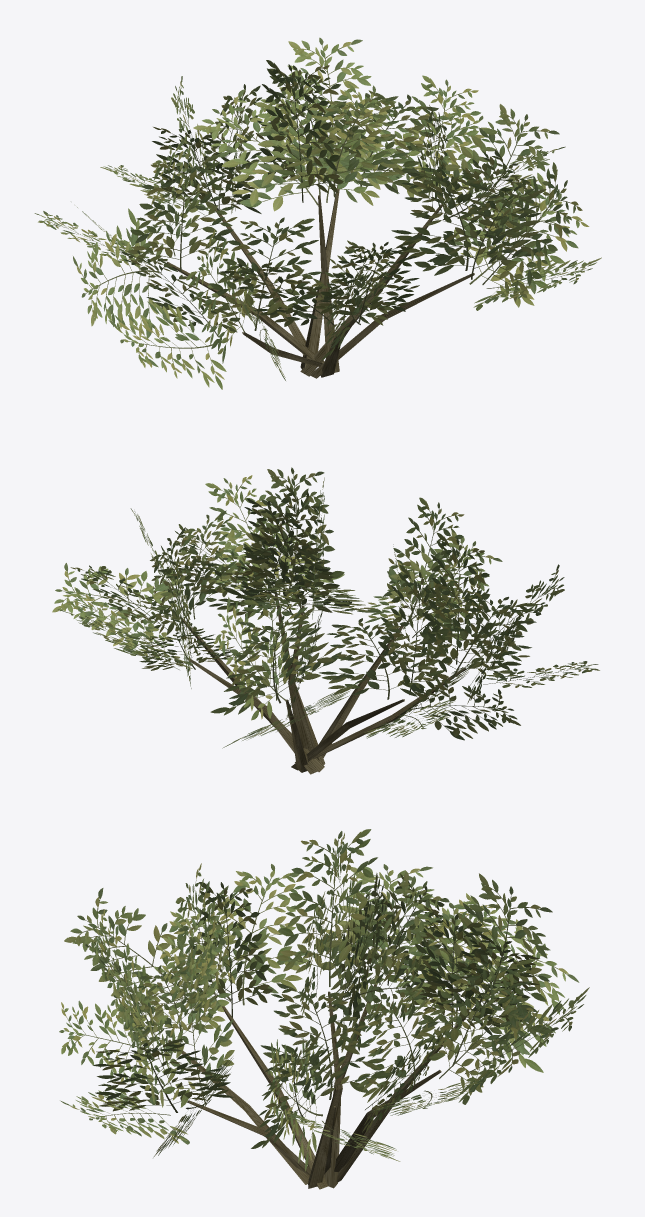
The model's file is shrub-1_lod1.glb.
3 renders of one model, top to bottom at view 1: azimuth 30°, elevation 25°; view 2: azimuth 150°, elevation 25°; view 3: azimuth 270°, elevation 25°, orthographic. The views are drawn at different scales.
Visible parts, largest first — view 1: shrub-1_lod1; view 2: shrub-1_lod1; view 3: shrub-1_lod1.
Boxes of the visible parts, x1,y1,x2,y2 form: shrub-1_lod1: (34, 37, 601, 389); shrub-1_lod1: (52, 467, 599, 774); shrub-1_lod1: (59, 829, 589, 1189).
Bounding box in the file's own units: 2 × 1.13 × 1.82.
2 materials, 2 textured.
